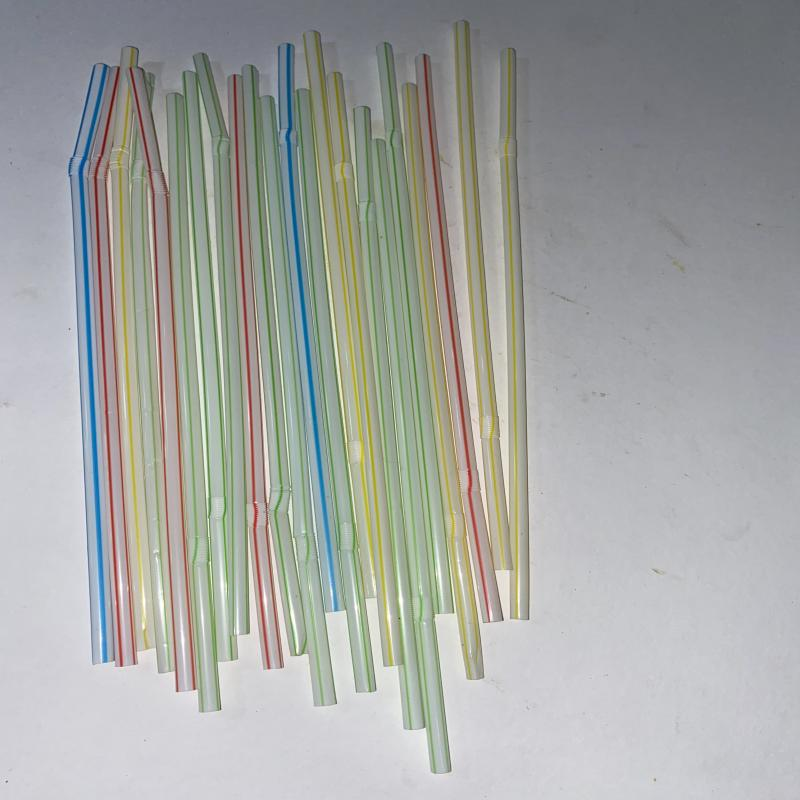plastic straw: (371, 139, 452, 774), (415, 53, 504, 623), (401, 83, 484, 680), (295, 89, 377, 693), (325, 71, 404, 666), (260, 96, 337, 706), (125, 68, 198, 692), (376, 42, 455, 614), (353, 107, 425, 730), (304, 31, 377, 599), (242, 64, 308, 656), (278, 42, 346, 613), (167, 93, 221, 713), (228, 74, 284, 670), (192, 53, 249, 636), (182, 70, 238, 662), (454, 20, 513, 570), (89, 66, 138, 667), (109, 46, 156, 652), (69, 63, 114, 665), (131, 117, 176, 674), (498, 48, 529, 620)
